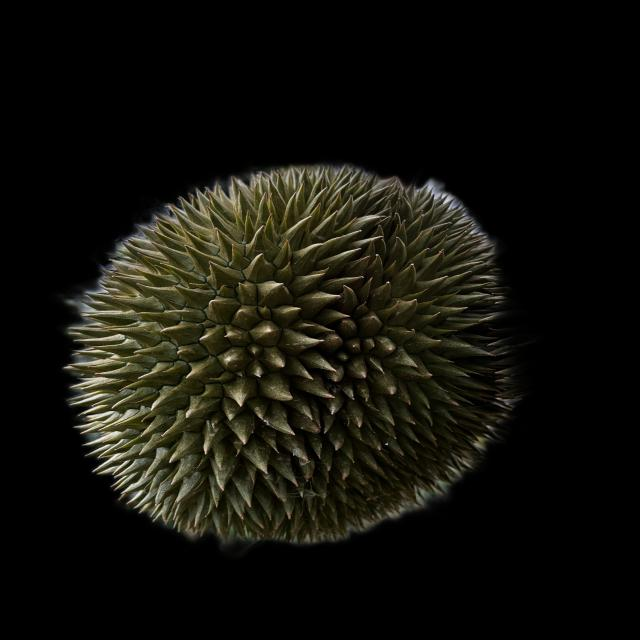immature: (61, 158, 522, 547)
